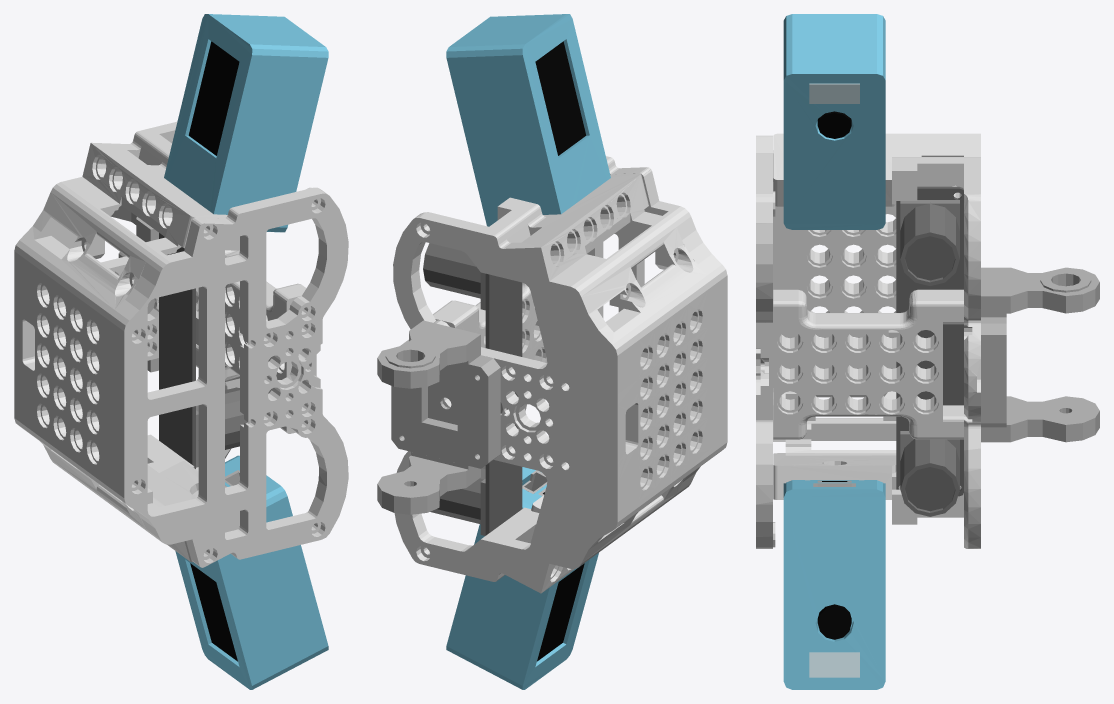
The model's file is head-neck-p_mesh.glb.
3 views of the same model, side by side, from view 1: azimuth 30°, elevation 25°; view 2: azimuth 150°, elevation 25°; view 3: azimuth 270°, elevation 25° (orthographic). The views are drawn at different scales.
Parts seen in each view (by area): view 1: base2_M1KShape4, base2_M1KShape3, base2_M1KShape6, base2_M1KShape13, base2_M1KShape20, base2_M1KShape7, base2_M1KShape5, base2_M1KShape14, base2_M1KShape25, base2_M1KShape2; view 2: base2_M1KShape3, base2_M1KShape6, base2_M1KShape13, base2_M1KShape0, base2_M1KShape4, base2_M1KShape20, base2_M1KShape2, base2_M1KShape1, base2_M1KShape7, base2_M1KShape5, base2_M1KShape23, base2_M1KShape14 (+1 smaller); view 3: base2_M1KShape3, base2_M1KShape5, base2_M1KShape6, base2_M1KShape13, base2_M1KShape4, base2_M1KShape20, base2_M1KShape2, base2_M1KShape1, base2_M1KShape0, base2_M1KShape23, base2_M1KShape25, base2_M1KShape24 (+6 smaller).
Part boxes in pixels (x1,y1,x2,y2): base2_M1KShape4: (109,187,348,567); base2_M1KShape3: (14,121,239,562); base2_M1KShape6: (164,14,328,232); base2_M1KShape13: (175,455,328,689); base2_M1KShape20: (159,233,195,468); base2_M1KShape7: (188,41,239,155); base2_M1KShape5: (196,250,309,433); base2_M1KShape14: (190,563,237,661); base2_M1KShape25: (196,387,247,449); base2_M1KShape2: (111,205,158,241); base2_M1KShape3: (393,173,712,593); base2_M1KShape6: (446,14,610,226); base2_M1KShape13: (446,467,598,689); base2_M1KShape0: (391,339,500,468); base2_M1KShape4: (525,156,727,496); base2_M1KShape20: (485,273,522,535); base2_M1KShape2: (377,320,480,388); base2_M1KShape1: (377,452,480,514); base2_M1KShape7: (535,41,586,155); base2_M1KShape5: (433,283,547,362); base2_M1KShape23: (423,243,480,298); base2_M1KShape14: (537,563,584,661); base2_M1KShape3: (773,133,980,548); base2_M1KShape5: (773,289,963,439); base2_M1KShape6: (783,14,885,229); base2_M1KShape13: (783,480,885,689); base2_M1KShape4: (756,135,785,548); base2_M1KShape20: (896,186,963,496); base2_M1KShape2: (981,267,1099,317); base2_M1KShape1: (981,396,1099,442); base2_M1KShape0: (981,317,1006,427); base2_M1KShape23: (900,202,959,285); base2_M1KShape25: (900,439,959,516); base2_M1KShape24: (905,236,955,280).
Size of the model in its own units: 0.0625 by 0.1716 by 0.081.
